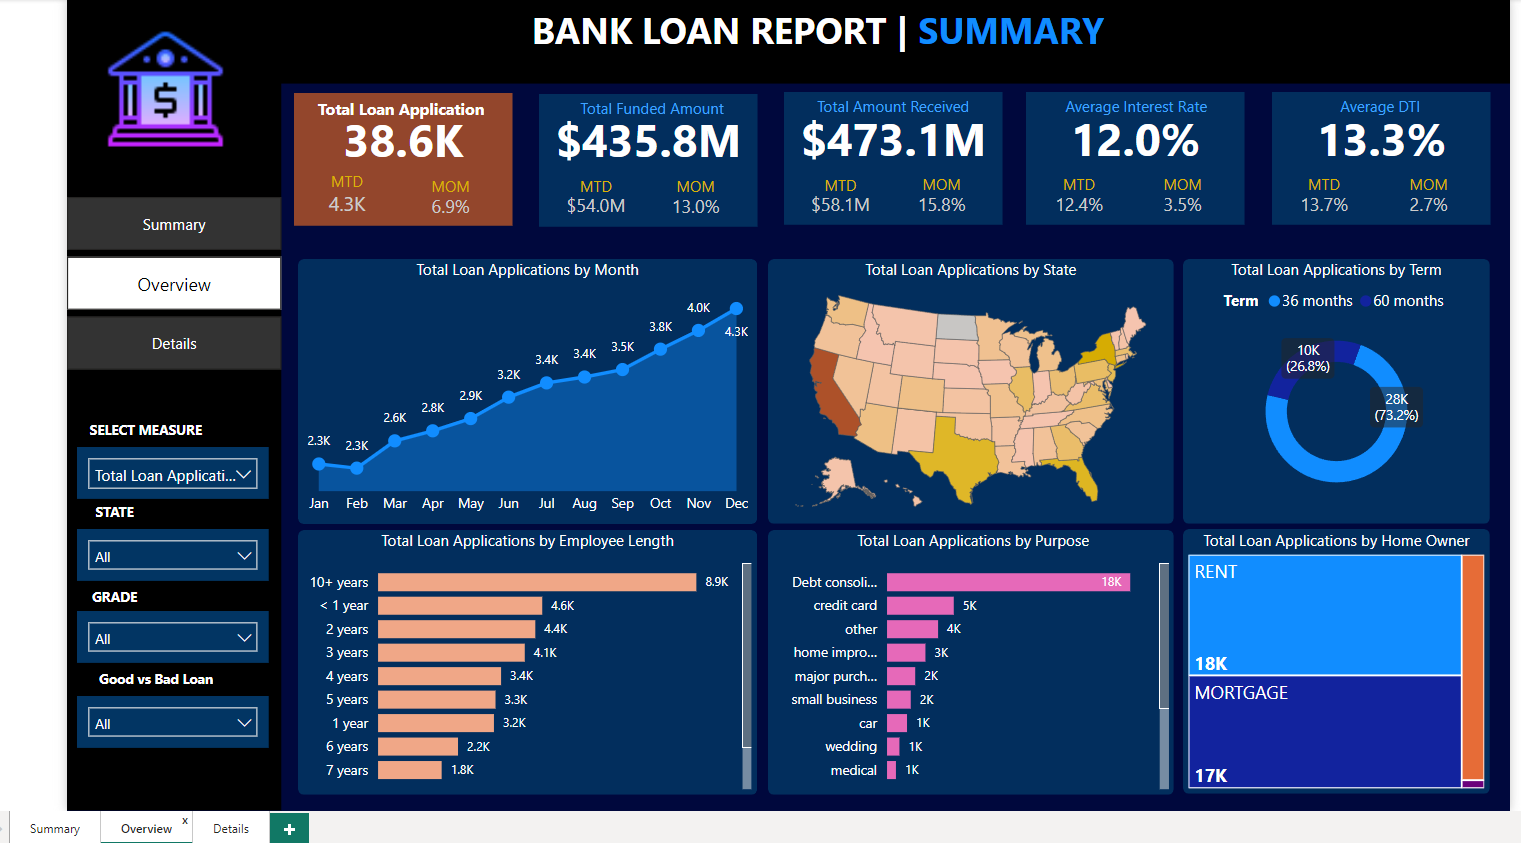

Layout of this report page (visuals, bound fields, positions):
{"tool":"powerbi","page":{"name":"Overview","canvas":[1280,720],"ordinal":1},"visuals":[{"type":"shape","box":[0,74.5,190,645],"z":0},{"type":"shape","box":[635.9,82.4,193.8,117.7],"z":0,"group":"g4"},{"type":"shape","box":[850.6,82.4,193.8,117.7],"z":0,"group":"g3"},{"type":"shape","box":[1068,82.4,193.8,117.7],"z":0,"group":"g5"},{"type":"shape","box":[201.1,83.8,193.8,117.7],"z":0,"group":"g1"},{"type":"shape","box":[418.5,83.8,193.8,117.7],"z":0,"group":"g2"},{"type":"card","fields":{"Values":["Measure table.Total Amount Received"]},"box":[635.9,99.1,193.8,47.9],"z":1000,"group":"g4"},{"type":"card","fields":{"Values":["Measure table.Avg Interest Rate"]},"box":[850.6,99.1,193.8,47.9],"z":1000,"group":"g3"},{"type":"card","fields":{"Values":["Measure table.AVG DTI"]},"box":[1068,99.1,193.8,47.9],"z":1000,"group":"g5"},{"type":"card","fields":{"Values":["loan data.Total Loan Applications"]},"box":[201.1,100.4,193.8,47.9],"z":1000,"group":"g1"},{"type":"card","fields":{"Values":["Measure table.Total Funded amount"]},"box":[418.5,100.4,193.8,47.9],"z":1000,"group":"g2"},{"type":"shape","box":[204.6,230.8,407.2,235],"z":1000},{"type":"shape","box":[0,0,1280,75],"z":2000},{"type":"textbox","box":[634.6,81.8,195.5,31.6],"z":2000,"group":"g4"},{"type":"textbox","box":[851.2,81.8,194,31.6],"z":2000,"group":"g3"},{"type":"textbox","box":[1066.5,81.8,195.5,31.6],"z":2000,"group":"g5"},{"type":"textbox","box":[196.5,82.6,198.5,33.1],"z":2000,"group":"g1"},{"type":"textbox","box":[425.3,83.2,186.5,33.1],"z":2000,"group":"g2"},{"type":"textbox","box":[407.2,0,554.3,74.6],"z":3000},{"type":"card","title":"MTD","fields":{"Values":["loan data.MTD loan Applications"]},"box":[219.1,152.3,56.7,49.4],"z":3000,"group":"g1"},{"type":"card","title":"MTD","fields":{"Values":["Measure table.MTD Avg Int Rate"]},"box":[867.3,155.3,60.4,44.8],"z":3000,"group":"g3"},{"type":"card","title":"MTD","fields":{"Values":["Measure table.MTD Avg DTI"]},"box":[1084.6,155.3,60.4,44.8],"z":3000,"group":"g5"},{"type":"card","title":"MTD","fields":{"Values":["Measure table.MTD Total Amount Received"]},"box":[652.7,156.5,66.5,44.3],"z":3000,"group":"g4"},{"type":"card","title":"MTD","fields":{"Values":["Measure table.MTD Funded Amount"]},"box":[429.6,156.6,78,43.4],"z":3000,"group":"g2"},{"type":"group","id":"g1","title":"Group 1","box":[196.5,82.6,198.5,119.1],"z":4000},{"type":"card","title":"MOM","fields":{"Values":["Measure table.MOM Total Received  Amount"]},"box":[732.8,155.3,84.4,44.8],"z":4000,"group":"g4"},{"type":"card","title":"MOM","fields":{"Values":["Measure table.MOM Avg Int Rate"]},"box":[947.5,155.3,84.4,44.8],"z":4000,"group":"g3"},{"type":"card","title":"MOM","fields":{"Values":["Measure table.MOM Avg DTI"]},"box":[1164.8,155.3,84.4,44.8],"z":4000,"group":"g5"},{"type":"card","title":"MOM","fields":{"Values":["loan data.MOM Loan Application"]},"box":[298,156.7,84.4,44.8],"z":4000,"group":"g1"},{"type":"card","title":"MOM","fields":{"Values":["Measure table.MOM Total Funded Amount"]},"box":[515.4,156.7,84.4,44.8],"z":4000,"group":"g2"},{"type":"group","id":"g2","title":"Group 1","box":[418.5,83.2,193.8,118.3],"z":5000},{"type":"group","id":"g3","title":"Group 1","box":[850.6,81.8,194.6,118.3],"z":6000},{"type":"group","id":"g4","title":"Group 1","box":[634.6,81.8,195.5,119],"z":7000},{"type":"group","id":"g5","title":"Group 1","box":[1066.5,81.8,195.5,118.3],"z":8000},{"type":"slicer","fields":{"Values":["loan data.address_state"]},"box":[9.1,469.7,170.3,46.4],"z":9000},{"type":"textbox","box":[9.1,440.4,66.5,29.2],"z":10000},{"type":"slicer","fields":{"Values":["loan data.grade"]},"box":[9.1,542.2,170.3,46.4],"z":11000},{"type":"textbox","box":[9.1,516,66.5,29.2],"z":12000},{"type":"slicer","fields":{"Values":["loan data.Good VS Bad Loan"]},"box":[9.1,617.8,170.3,46.4],"z":13000},{"type":"textbox","box":[9.1,588.6,140.1,29.2],"z":14000},{"type":"areaChart","fields":{"Y":["Measure table.Total Loan Applications"],"Category":["Date Table.Month"]},"box":[204.6,230.8,407.2,234.8],"z":15000},{"type":"slicer","fields":{"Values":["Select Parameters.Select Parameters"]},"box":[9.1,397.1,170.3,46.4],"z":16000},{"type":"textbox","box":[9.1,367.9,122,29.2],"z":17000},{"type":"shape","box":[621.9,230.8,359.8,234.8],"z":18000},{"type":"shapeMap","fields":{"Value":["Measure table.Total Loan Applications"],"Category":["loan data.address_state"]},"box":[621.9,230.8,359.8,234.8],"z":19000},{"type":"shape","box":[989.7,230.8,272.1,234.8],"z":20000},{"type":"donutChart","fields":{"Y":["Measure table.Total Loan Applications"],"Category":["loan data.term"]},"box":[989.7,230.8,272.1,224.8],"z":21000},{"type":"shape","box":[204.6,470.7,407.2,234.8],"z":22000},{"type":"barChart","fields":{"Y":["Measure table.Total Loan Applications"],"Category":["loan data.emp_length"]},"box":[204.6,470.7,407.2,234.8],"z":23000},{"type":"shape","box":[621.9,470.7,359.8,234.8],"z":24000},{"type":"barChart","fields":{"Y":["Measure table.Total Loan Applications"],"Category":["loan data.purpose"]},"box":[624.9,470.7,356.8,234.8],"z":25000},{"type":"shape","box":[989.7,469.7,272.1,234.8],"z":26000},{"type":"treemap","fields":{"Values":["Measure table.Total Loan Applications"],"Group":["loan data.home_ownership"]},"box":[989.7,470.7,272.1,233.8],"z":27000},{"type":"pageNavigator","box":[0,175.4,190.5,155.2],"z":27001},{"type":"image","box":[17.1,12.1,140.1,135.1],"z":27002}]}

Visuals, with their boxes on the page's 1280x720 design canvas (x1, y1, x2, y2). These are canvas units, not pixel positions in the 1521x843 screenshot, which may show the page scaled, cropped or inside an application window:
shape: (x1=0, y1=74, x2=190, y2=720)
shape: (x1=636, y1=82, x2=830, y2=200)
shape: (x1=851, y1=82, x2=1044, y2=200)
shape: (x1=1068, y1=82, x2=1262, y2=200)
shape: (x1=201, y1=84, x2=395, y2=202)
shape: (x1=418, y1=84, x2=612, y2=202)
card - Measure table.Total Amount Received: (x1=636, y1=99, x2=830, y2=147)
card - Measure table.Avg Interest Rate: (x1=851, y1=99, x2=1044, y2=147)
card - Measure table.AVG DTI: (x1=1068, y1=99, x2=1262, y2=147)
card - loan data.Total Loan Applications: (x1=201, y1=100, x2=395, y2=148)
card - Measure table.Total Funded amount: (x1=418, y1=100, x2=612, y2=148)
shape: (x1=205, y1=231, x2=612, y2=466)
shape: (x1=0, y1=0, x2=1280, y2=75)
textbox: (x1=635, y1=82, x2=830, y2=113)
textbox: (x1=851, y1=82, x2=1045, y2=113)
textbox: (x1=1066, y1=82, x2=1262, y2=113)
textbox: (x1=196, y1=83, x2=395, y2=116)
textbox: (x1=425, y1=83, x2=612, y2=116)
textbox: (x1=407, y1=0, x2=962, y2=75)
"MTD" card: (x1=219, y1=152, x2=276, y2=202)
"MTD" card: (x1=867, y1=155, x2=928, y2=200)
"MTD" card: (x1=1085, y1=155, x2=1145, y2=200)
"MTD" card: (x1=653, y1=156, x2=719, y2=201)
"MTD" card: (x1=430, y1=157, x2=508, y2=200)
"Group 1" group: (x1=196, y1=83, x2=395, y2=202)
"MOM" card: (x1=733, y1=155, x2=817, y2=200)
"MOM" card: (x1=948, y1=155, x2=1032, y2=200)
"MOM" card: (x1=1165, y1=155, x2=1249, y2=200)
"MOM" card: (x1=298, y1=157, x2=382, y2=202)
"MOM" card: (x1=515, y1=157, x2=600, y2=202)
"Group 1" group: (x1=418, y1=83, x2=612, y2=202)
"Group 1" group: (x1=851, y1=82, x2=1045, y2=200)
"Group 1" group: (x1=635, y1=82, x2=830, y2=201)
"Group 1" group: (x1=1066, y1=82, x2=1262, y2=200)
slicer - loan data.address_state: (x1=9, y1=470, x2=179, y2=516)
textbox: (x1=9, y1=440, x2=76, y2=470)
slicer - loan data.grade: (x1=9, y1=542, x2=179, y2=589)
textbox: (x1=9, y1=516, x2=76, y2=545)
slicer - loan data.Good VS Bad Loan: (x1=9, y1=618, x2=179, y2=664)
textbox: (x1=9, y1=589, x2=149, y2=618)
areaChart - Measure table.Total Loan Applications x Date Table.Month: (x1=205, y1=231, x2=612, y2=466)
slicer - Select Parameters.Select Parameters: (x1=9, y1=397, x2=179, y2=444)
textbox: (x1=9, y1=368, x2=131, y2=397)
shape: (x1=622, y1=231, x2=982, y2=466)
shapeMap - Measure table.Total Loan Applications x loan data.address_state: (x1=622, y1=231, x2=982, y2=466)
shape: (x1=990, y1=231, x2=1262, y2=466)
donutChart - Measure table.Total Loan Applications x loan data.term: (x1=990, y1=231, x2=1262, y2=456)
shape: (x1=205, y1=471, x2=612, y2=706)
barChart - Measure table.Total Loan Applications x loan data.emp_length: (x1=205, y1=471, x2=612, y2=706)
shape: (x1=622, y1=471, x2=982, y2=706)
barChart - Measure table.Total Loan Applications x loan data.purpose: (x1=625, y1=471, x2=982, y2=706)
shape: (x1=990, y1=470, x2=1262, y2=704)
treemap - Measure table.Total Loan Applications x loan data.home_ownership: (x1=990, y1=471, x2=1262, y2=704)
pageNavigator: (x1=0, y1=175, x2=190, y2=331)
image: (x1=17, y1=12, x2=157, y2=147)
